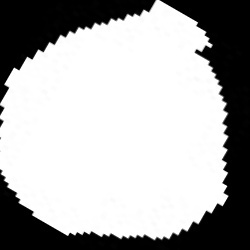spot: (2, 3, 227, 238)
